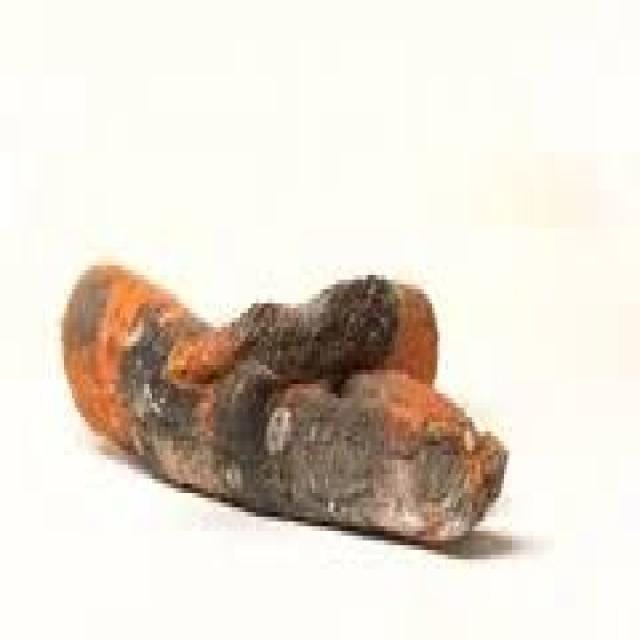Stale_Carrot: (73, 260, 430, 519)
